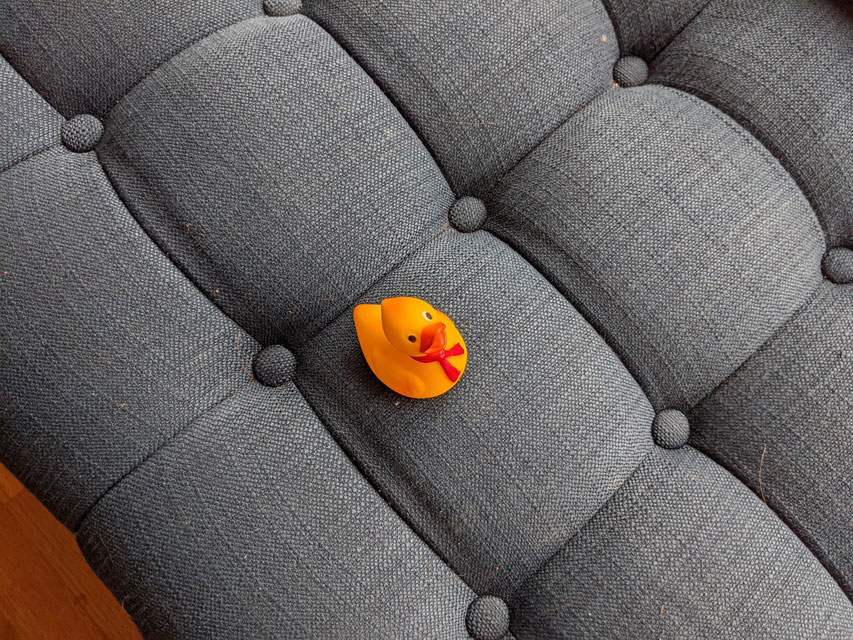ducky: (353, 296, 467, 399)
